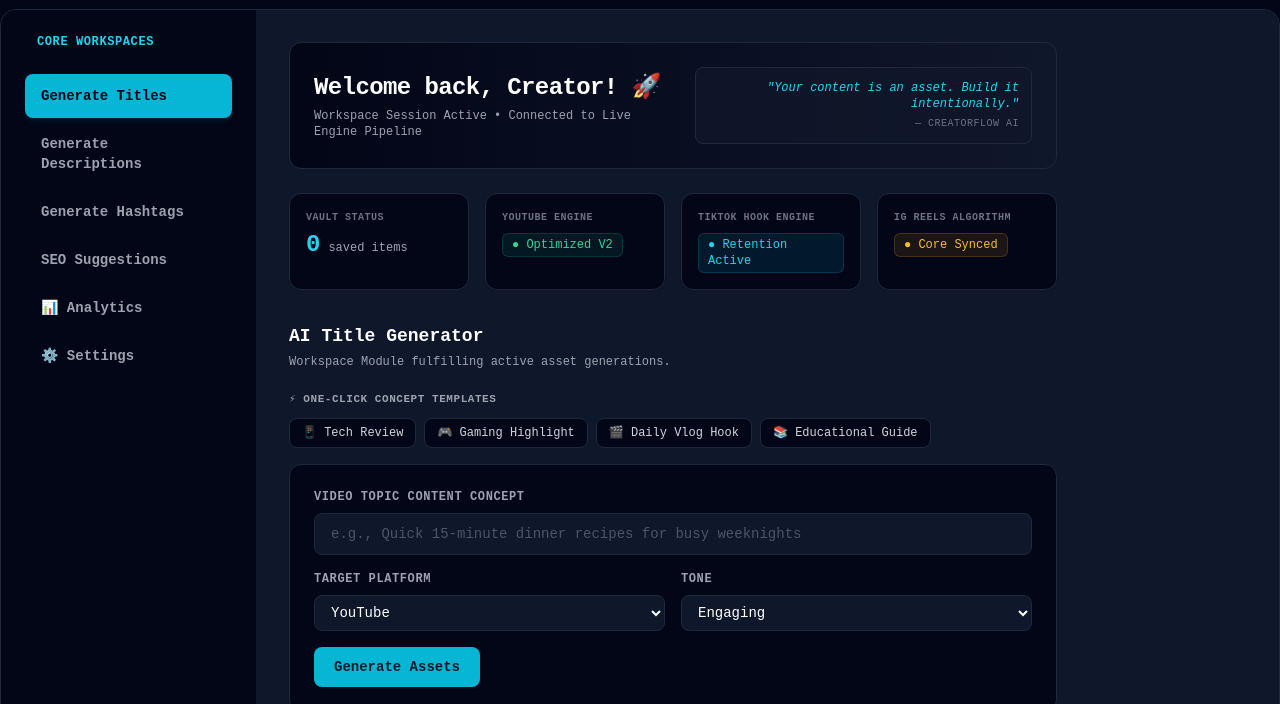
AIToolStudio — copy and save (US-07) › Copy writes the title to the clipboard and shows confirmation
The image size is (1280, 704).
Type "x" into the field with placeholder "e.g., Quick 15-minute dinner recipes for busy weeknights" at (673, 534), box [314,513,1032,555]
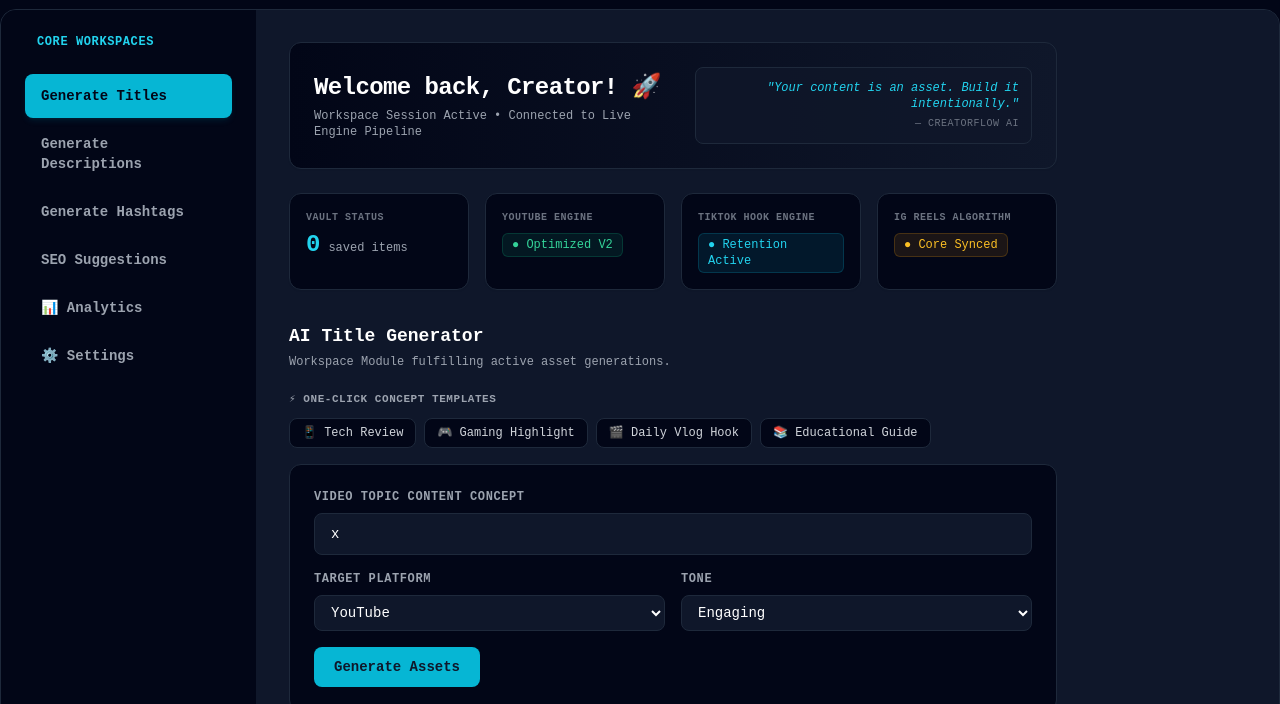
Click the button "Generate Assets" at (397, 667), box [314,647,480,687]
(page scrolled)
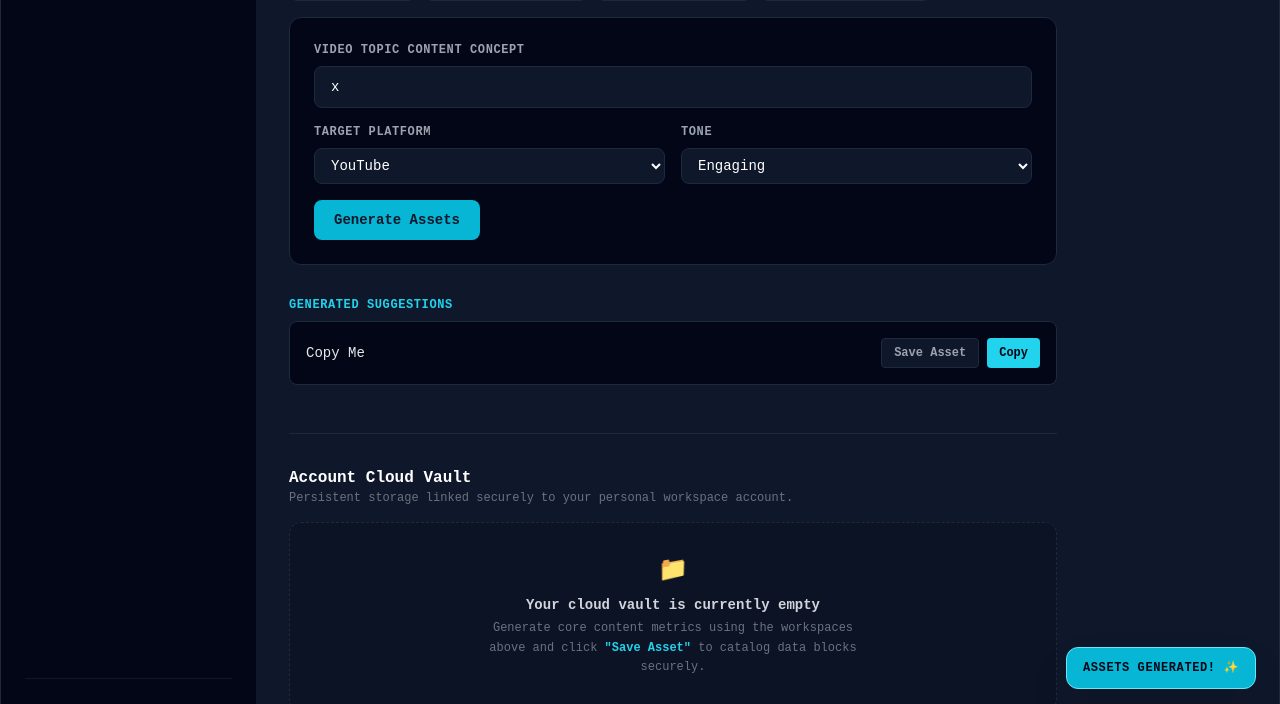
Now the text "Copy Me" is shown, box [306,343,365,363]
Click the button "Copy" at (1014, 353), box [987,338,1040,368]
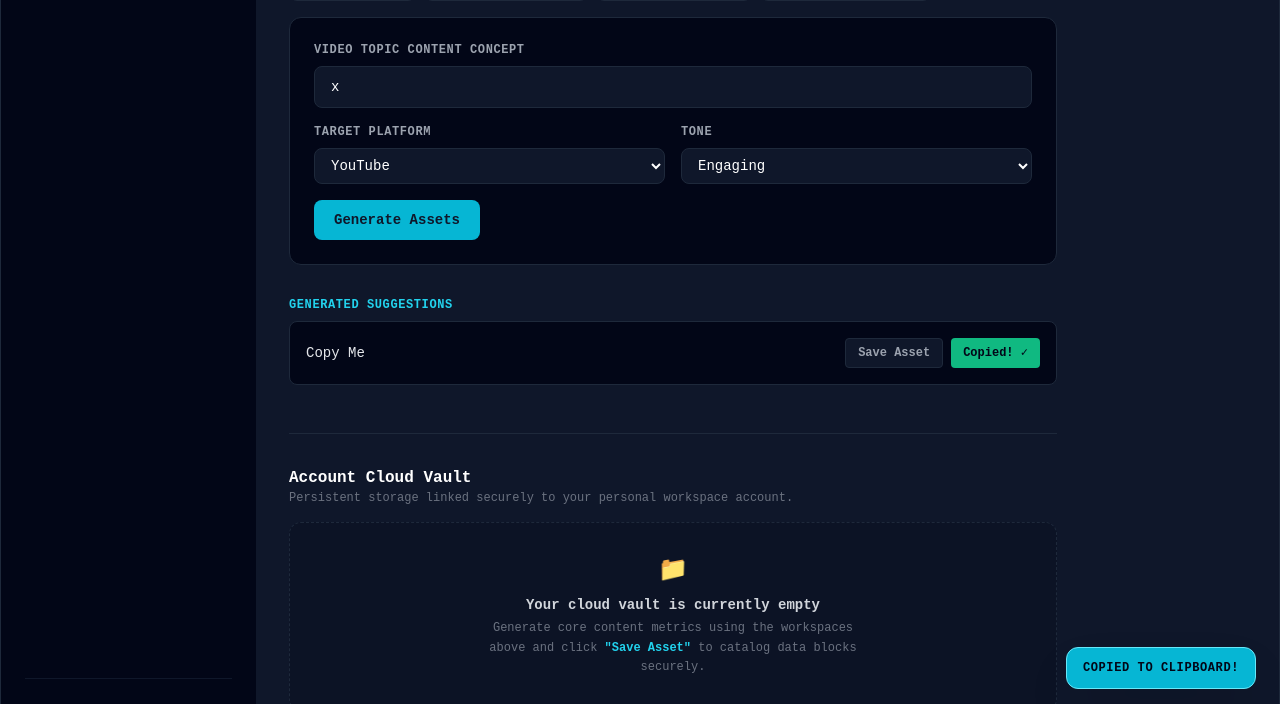
Now the button "Copied! ✓" is shown, box [951,338,1040,368]
